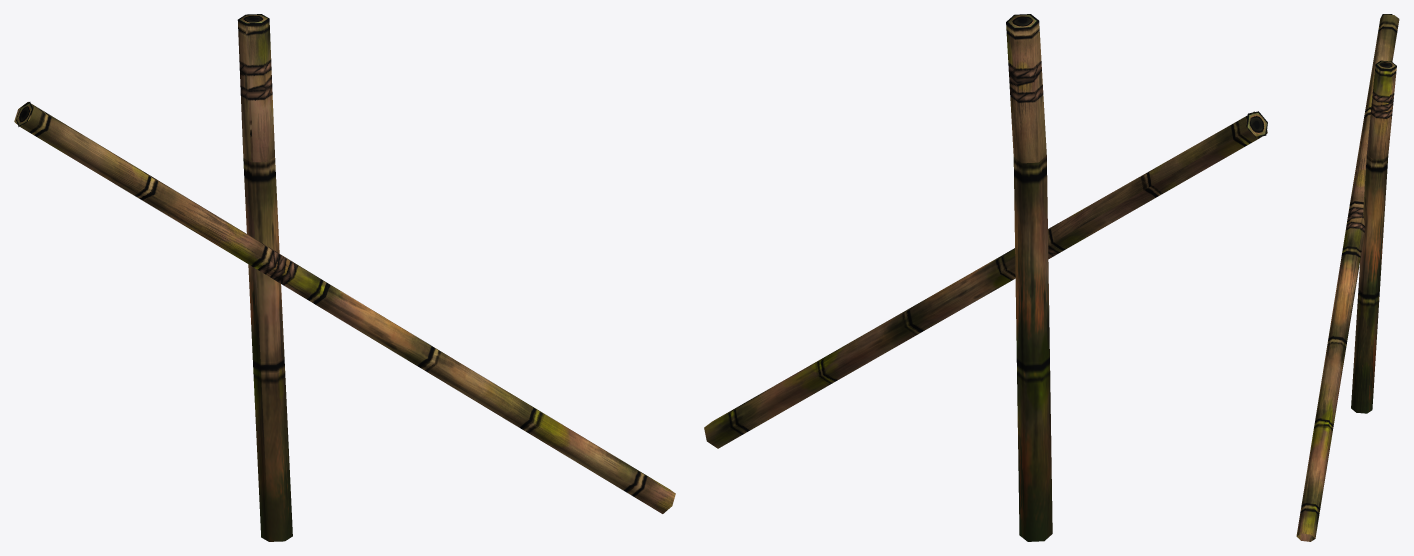
File: STR_BridgeWood_Support.FBX
The picture shows the model from 3 angles, left to right: view 1: azimuth 30°, elevation 25°; view 2: azimuth 150°, elevation 25°; view 3: azimuth 270°, elevation 25°; orthographic projection. The views are drawn at different scales.
Parts seen in each view (by area): view 1: STR_Bridgewood_Support; view 2: STR_Bridgewood_Support; view 3: STR_Bridgewood_Support.
Part boxes in pixels (x1,y1,x2,y2): STR_Bridgewood_Support: (14,14,675,541); STR_Bridgewood_Support: (704,14,1267,541); STR_Bridgewood_Support: (1296,14,1399,541).
Size of the model in its own units: 985 by 848 by 218.
